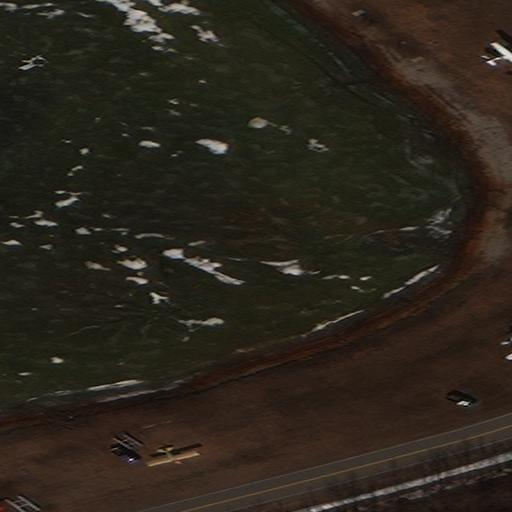Small Civil Transport: (147, 446, 200, 467), (483, 41, 512, 66)
